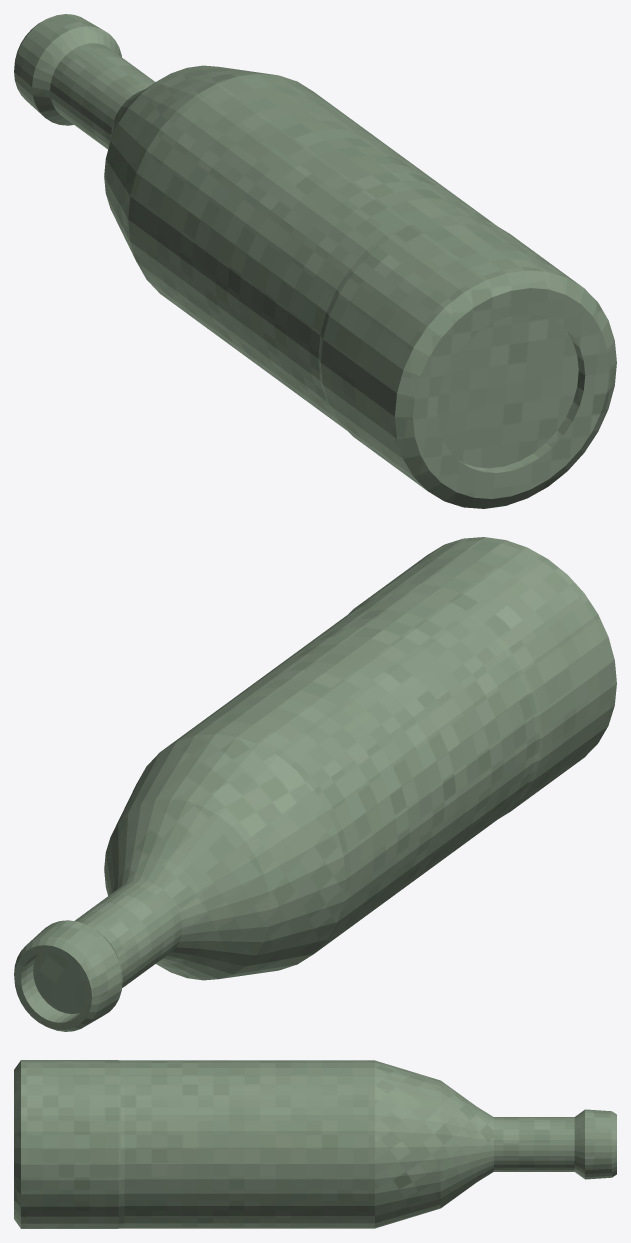
Rendered from Botella.fbx.
3 views of the same model, one above another, from view 1: azimuth 30°, elevation 25°; view 2: azimuth 150°, elevation 25°; view 3: azimuth 270°, elevation 25° (orthographic). The views are drawn at different scales.
Parts seen in each view (by area): view 1: Botella; view 2: Botella; view 3: Botella.
Part boxes in pixels (box(x1,y1,x2,y2)): Botella: box(14, 14, 616, 508); Botella: box(14, 537, 616, 1031); Botella: box(14, 1060, 616, 1228).
Bounding box in the file's own units: 7 × 7 × 25.
Materials: 1 (1 with a texture image).
